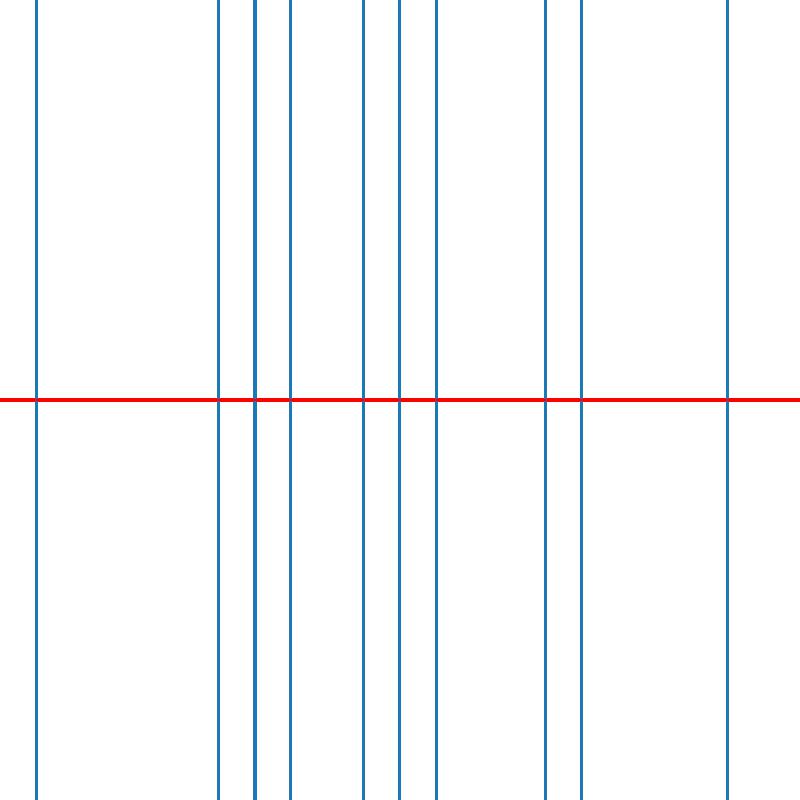root: (32, 396, 40, 404), (250, 396, 258, 404), (432, 396, 440, 404), (541, 396, 549, 404), (214, 396, 221, 404), (396, 396, 403, 404), (578, 396, 585, 404), (360, 396, 367, 404), (287, 396, 294, 404), (723, 396, 730, 404)
